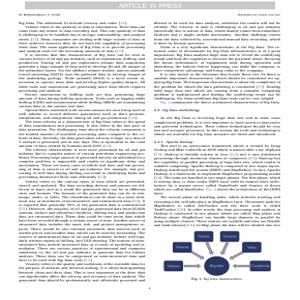diagram: (158, 230, 278, 276)
text: (16, 19, 148, 284), (152, 19, 285, 227), (117, 2, 184, 10)
